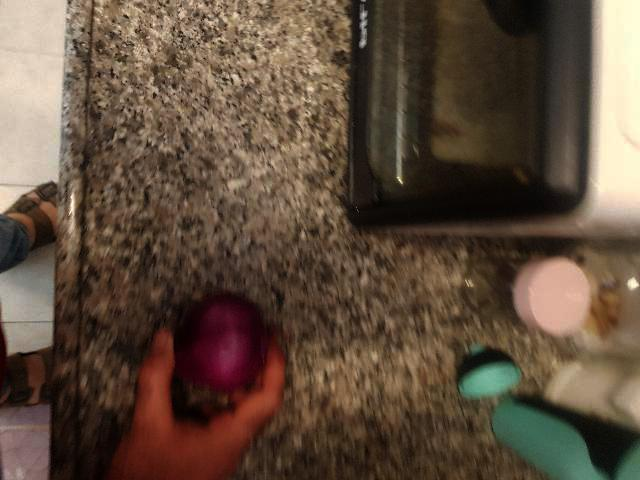onion: (170, 301, 266, 383)
